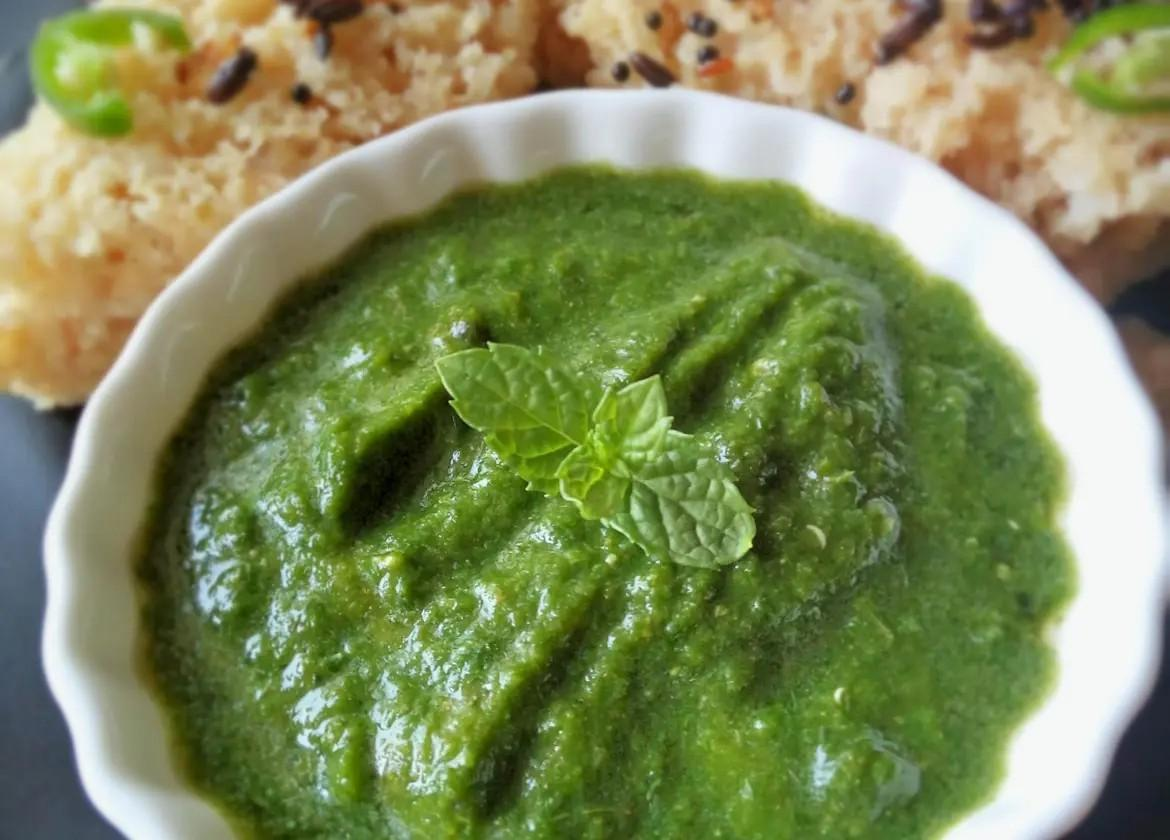GreenChutney: (135, 165, 1075, 840)
